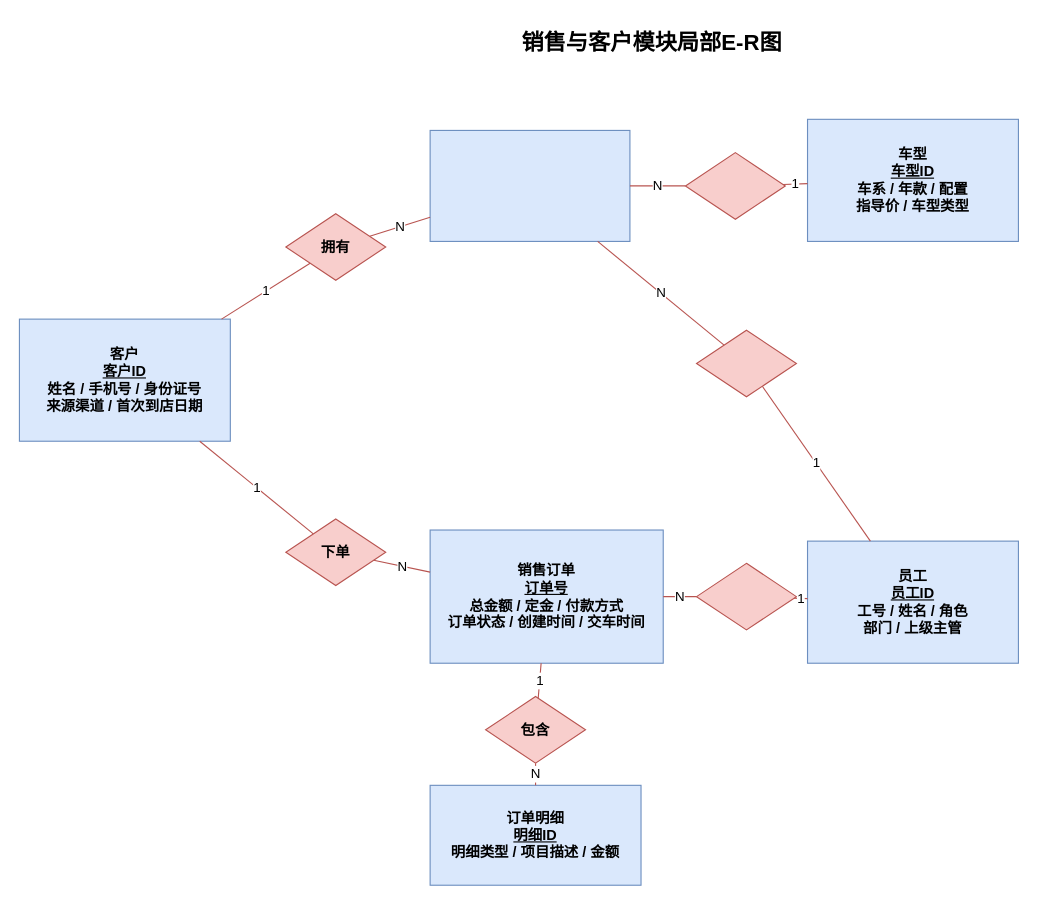
The diagram is 1038 pixels wide and 905 high, and some of its shapes have lost their labels. The centre of each missing label's shape, as x and y in pixels:
处理: the point at 745,596
客户意向 意向ID 意向级别 / 备注 下次联系时间: the point at 529,185
意向车型: the point at 734,185
跟进: the point at 745,363
